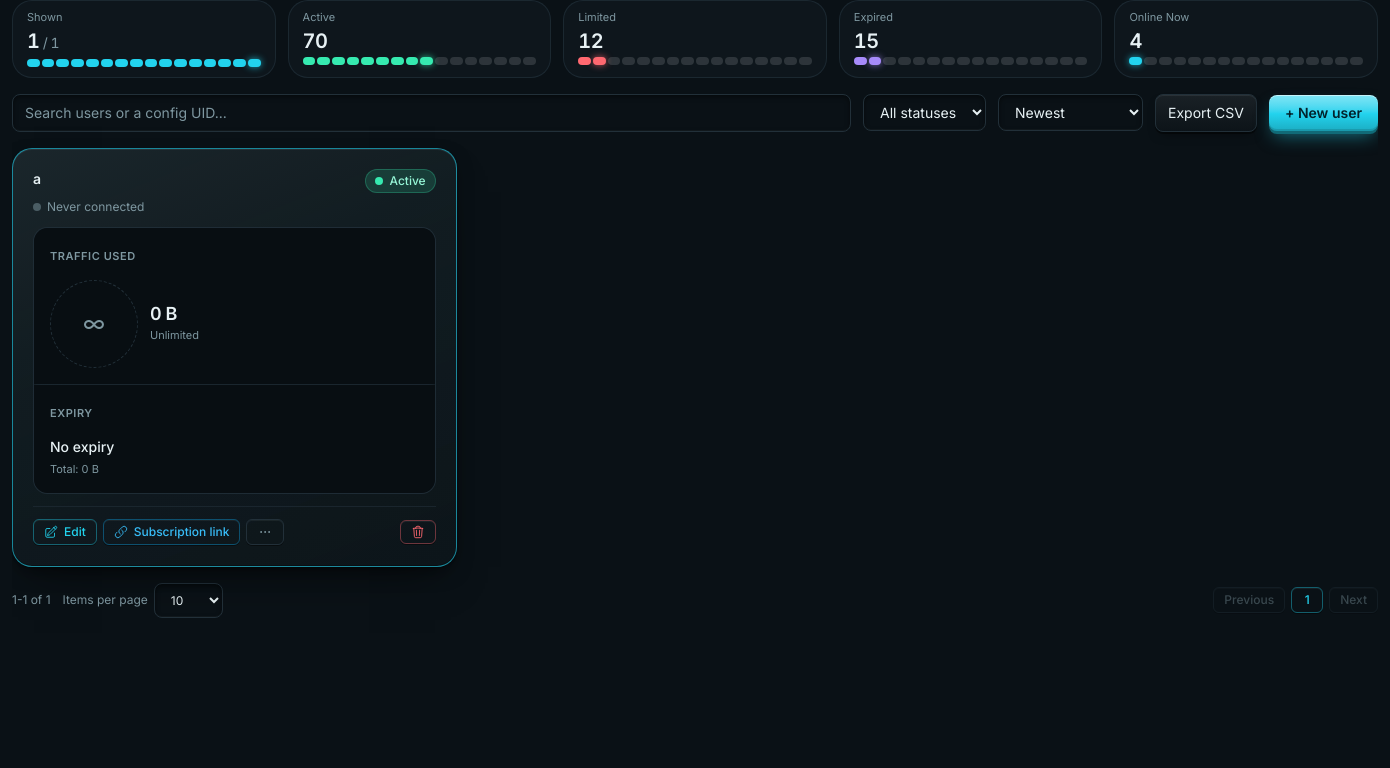
Scenario: Users list layout › keeps the everyday actions on the card, the rare ones behind a menu, and Delete on its own
Check: the button "Edit" is shown, box [33,519,97,545]
Check: the button "Subscription link" is shown, box [103,519,240,545]
Click the button named "More actions" at (266, 532), box [246,518,284,544]
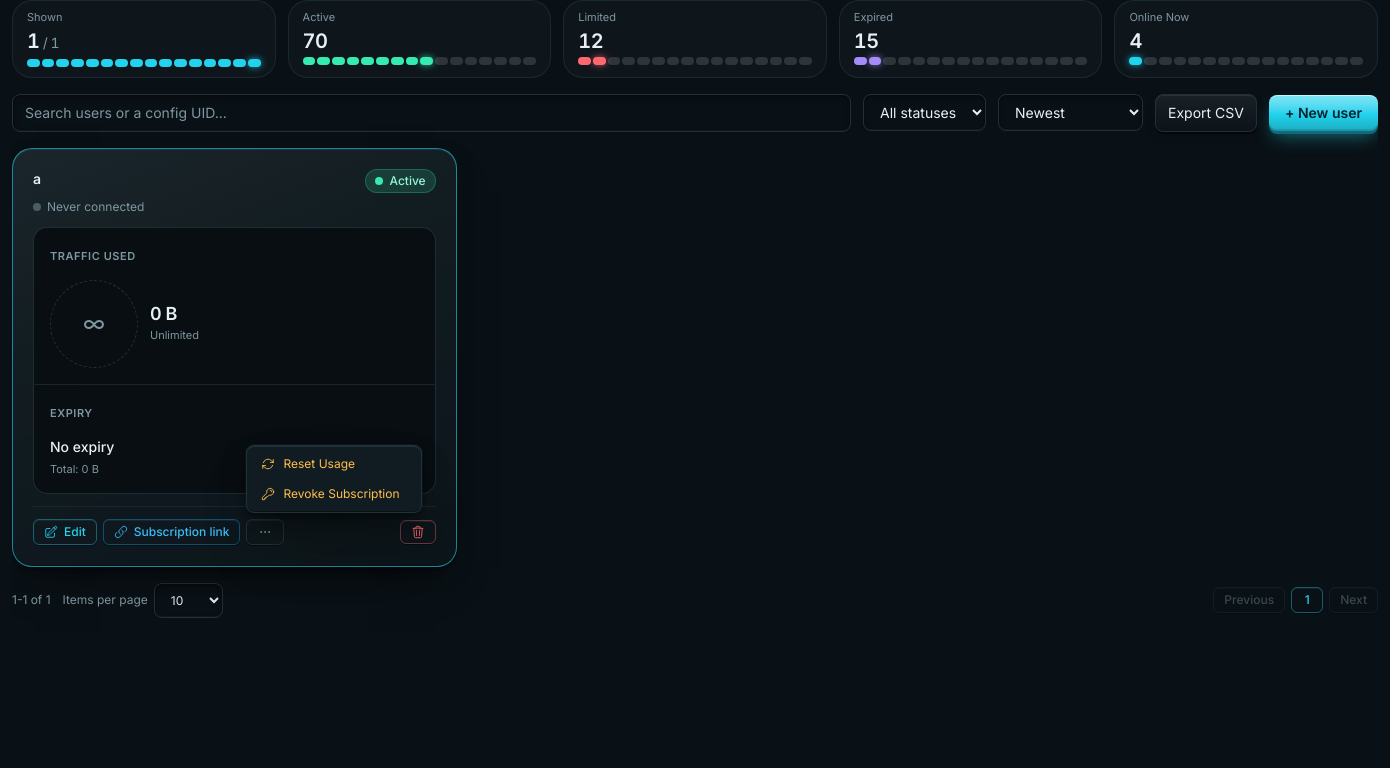
Check: the menu item "Reset Usage" is shown, box [252,450,418,478]
Check: the menu item "Revoke Subscription" is shown, box [252,480,418,508]
